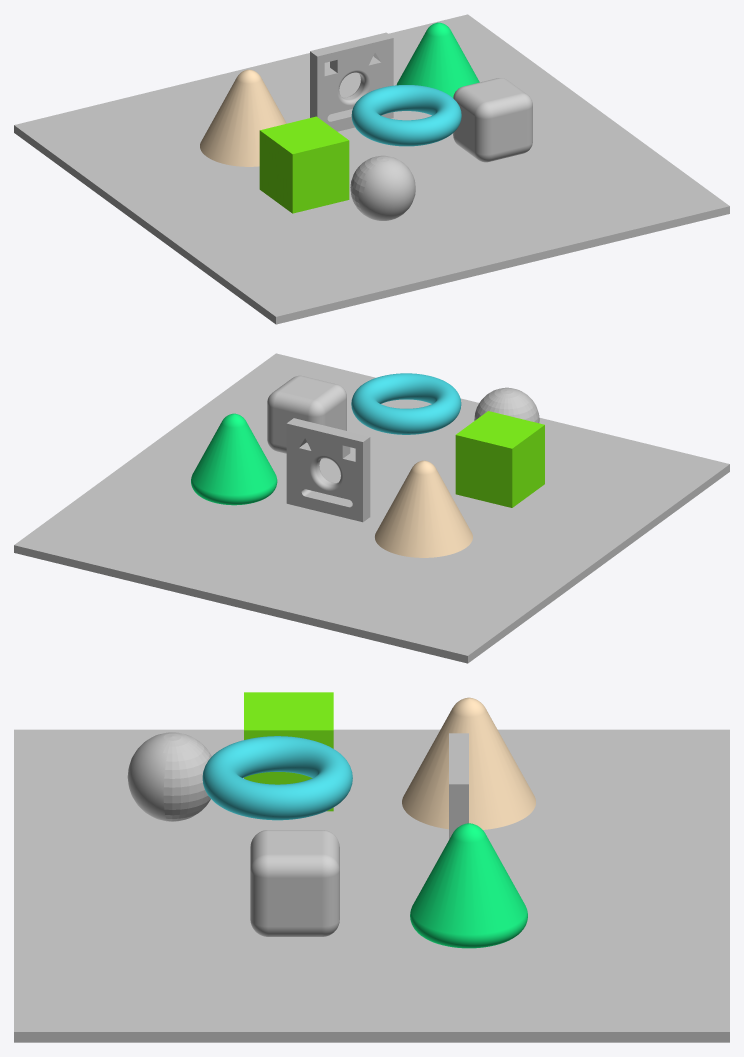
File: testparts.gltf
3 views of the same model, one above another, from view 1: azimuth 30°, elevation 25°; view 2: azimuth 150°, elevation 25°; view 3: azimuth 270°, elevation 25° (orthographic). The views are drawn at different scales.
Visible parts, largest first — view 1: Plane.001, Solid1.003, Solid1.004, Solid1, Solid1.005, Solid1.001, Plane, Solid1.002; view 2: Plane.001, Solid1.003, Solid1, Solid1.001, Solid1.002, Solid1.005, Solid1.004, Plane; view 3: Plane.001, Solid1.002, Solid1.005, Solid1.001, Solid1.004, Plane, Solid1.003, Solid1.
Boxes of the visible parts, box(x1,y1,x2,y2) form: Plane.001: box(14, 14, 729, 324); Solid1.003: box(259, 116, 349, 213); Solid1.004: box(453, 78, 532, 162); Solid1: box(310, 32, 393, 131); Solid1.005: box(351, 85, 461, 146); Solid1.001: box(200, 69, 286, 166); Plane: box(350, 155, 415, 220); Solid1.002: box(396, 22, 479, 97); Plane.001: box(14, 353, 729, 663); Solid1.003: box(455, 411, 544, 507); Solid1: box(286, 418, 370, 522); Solid1.001: box(375, 460, 472, 557); Solid1.002: box(191, 413, 277, 505); Solid1.005: box(351, 373, 461, 434); Solid1.004: box(267, 375, 346, 453); Plane: box(474, 387, 539, 423); Plane.001: box(14, 729, 729, 1042); Solid1.002: box(410, 823, 527, 948); Solid1.005: box(202, 736, 352, 820); Solid1.001: box(402, 697, 535, 829); Solid1.004: box(250, 830, 339, 936); Plane: box(127, 732, 211, 821); Solid1.003: box(244, 692, 333, 811); Solid1: box(449, 733, 468, 839).
Bounding box in the file's own units: 16 × 3.46 × 16.
